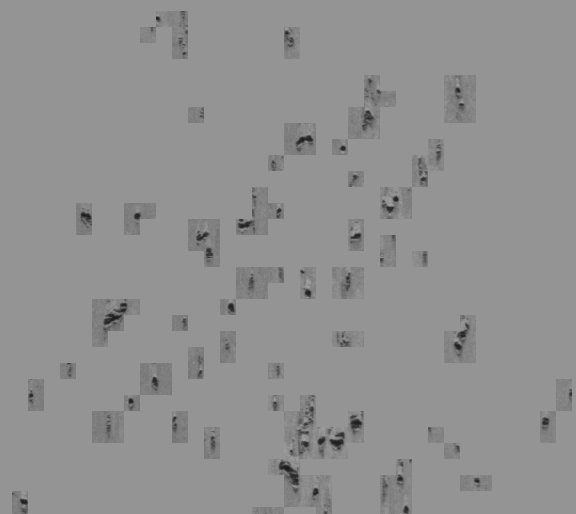oxl: (35, 10, 541, 504)
